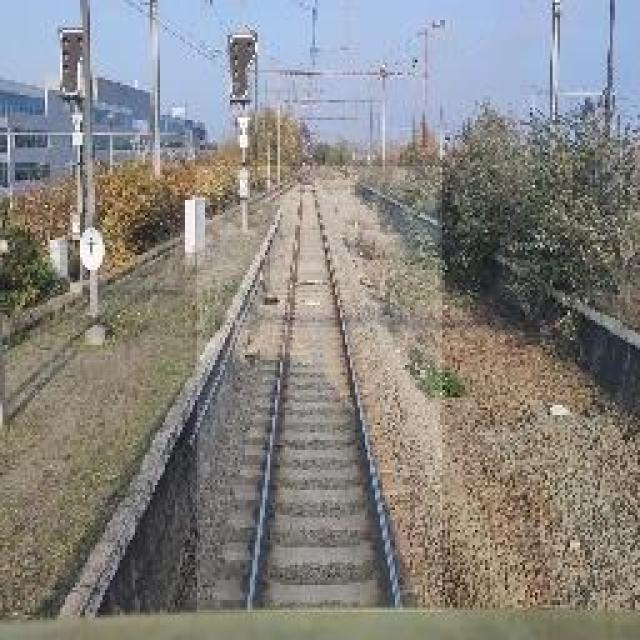rail: (199, 168, 443, 613)
